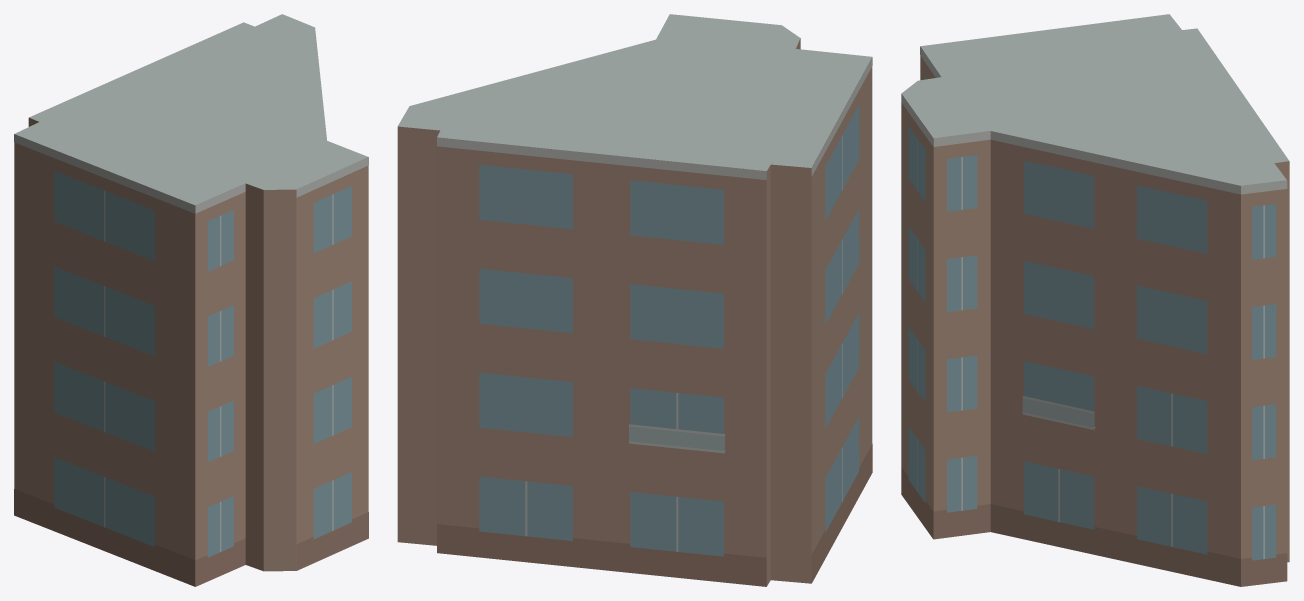
Rendered from survey-upis-32619387.glb.
The picture shows the model from 3 angles, left to right: view 1: azimuth 30°, elevation 25°; view 2: azimuth 150°, elevation 25°; view 3: azimuth 270°, elevation 25°; orthographic projection. The views are drawn at different scales.
Visible parts, largest first — view 1: survey-upis-32619387.tmp; view 2: survey-upis-32619387.tmp; view 3: survey-upis-32619387.tmp.
Part boxes in pixels (<box>): survey-upis-32619387.tmp: <box>14,14,368,586</box>; survey-upis-32619387.tmp: <box>397,14,872,586</box>; survey-upis-32619387.tmp: <box>901,14,1289,586</box>.
Size of the model in its own units: 10.36 by 11.26 by 9.89.
